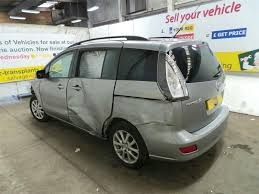Broken-glass: (168, 46, 221, 80)
Dent: (64, 78, 112, 136), (138, 99, 175, 130)
